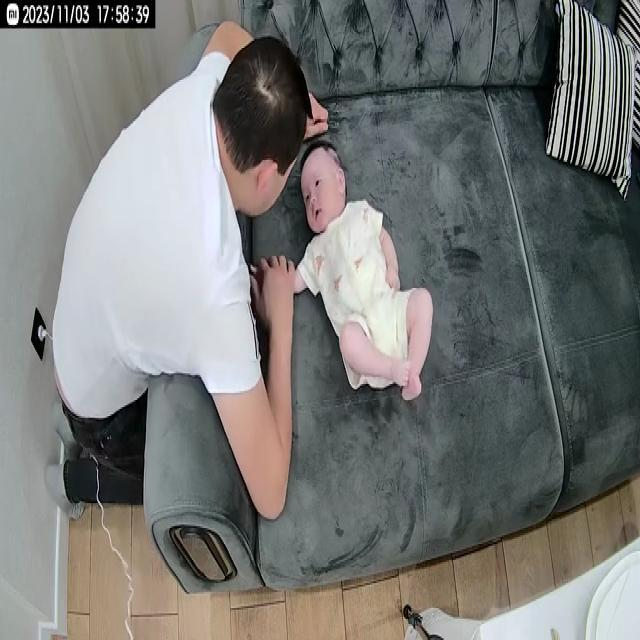baby: (284, 138, 434, 407)
